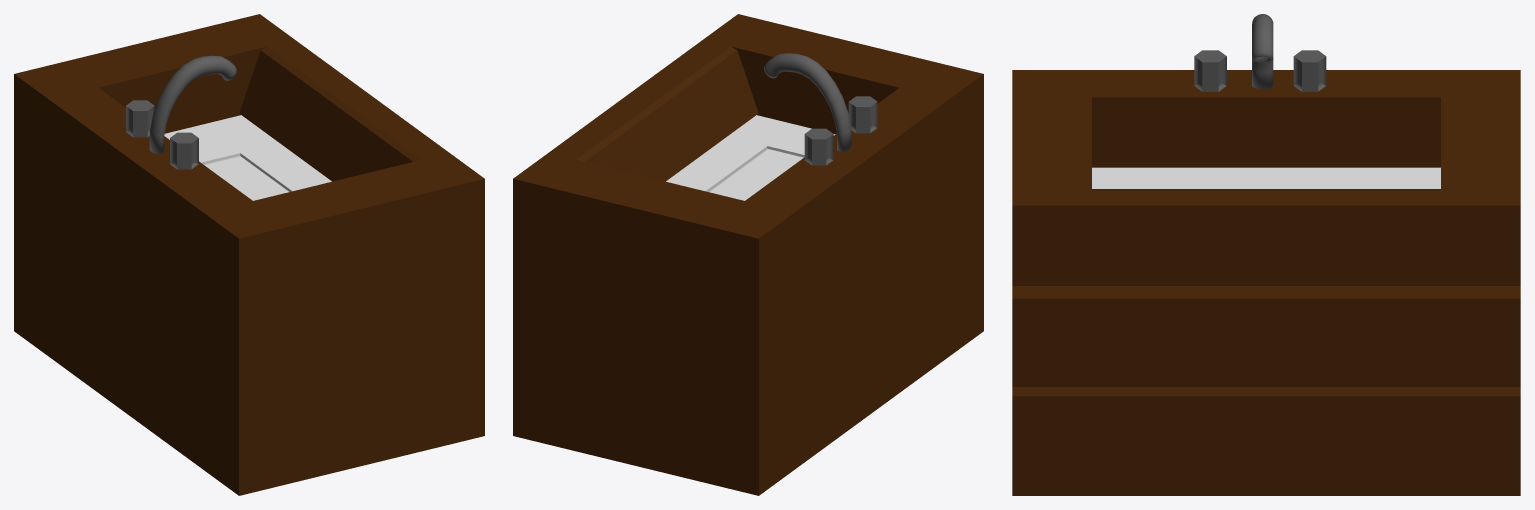
Rendered from lavamanos de baño (2).fbx.
3 views of the same model, side by side, from view 1: azimuth 30°, elevation 25°; view 2: azimuth 150°, elevation 25°; view 3: azimuth 270°, elevation 25° (orthographic). The views are drawn at different scales.
Parts seen in each view (by area): view 1: Cube, Cylinder, Cylinder.002, Cylinder.001; view 2: Cube, Cylinder, Cylinder.001, Cylinder.002; view 3: Cube, Cylinder, Cylinder.001, Cylinder.002.
Part boxes in pixels (x1,y1,x2,y2): Cube: (14,14,484,495); Cylinder: (149,55,237,154); Cylinder.002: (170,132,198,169); Cylinder.001: (126,100,154,137); Cube: (513,14,983,495); Cylinder: (764,53,851,151); Cylinder.001: (804,128,833,165); Cylinder.002: (848,96,877,133); Cube: (1012,70,1520,495); Cylinder: (1252,14,1273,88); Cylinder.001: (1293,50,1326,91); Cylinder.002: (1194,50,1226,91).
Size of the model in its own units: 200 by 264 by 317.
